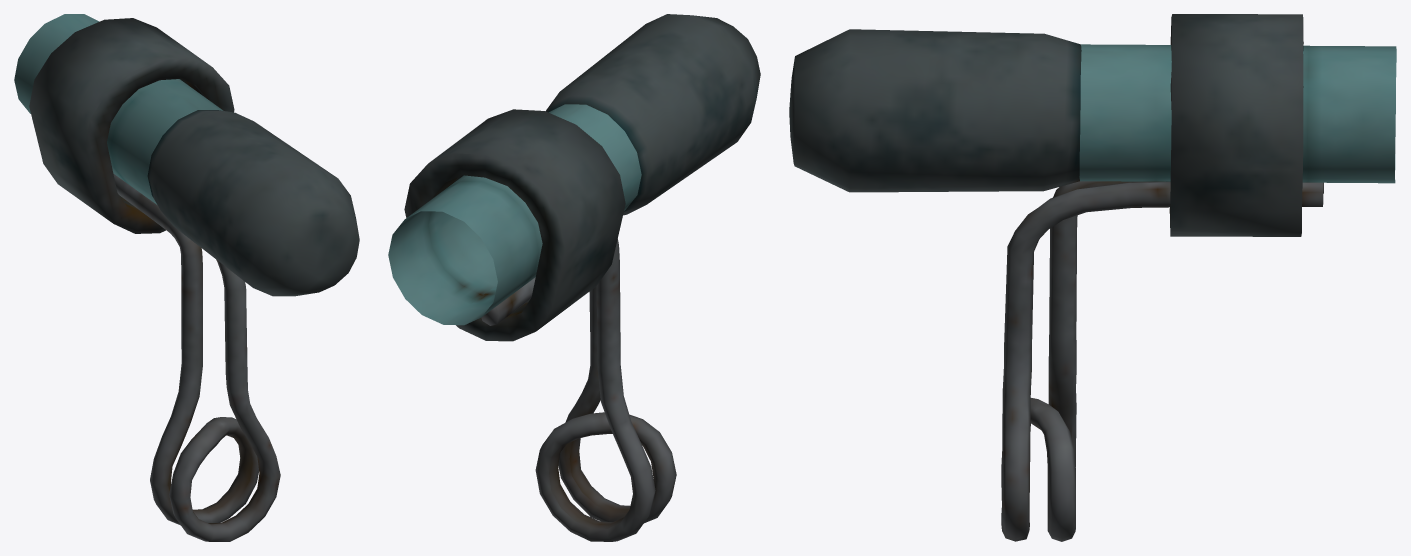
The model's file is pole_end.fbx.
The picture shows the model from 3 angles, left to right: view 1: azimuth 30°, elevation 25°; view 2: azimuth 150°, elevation 25°; view 3: azimuth 270°, elevation 25°; orthographic projection. The views are drawn at different scales.
Visible parts, largest first — view 1: spining01.006; view 2: spining01.006; view 3: spining01.006.
Boxes of the visible parts, x1,y1,x2,y2 form: spining01.006: (14, 14, 359, 541); spining01.006: (388, 14, 760, 541); spining01.006: (789, 14, 1396, 541).
Bounding box in the file's own units: 1.44 × 3.98 × 4.29.
Materials: 1 (1 with a texture image).
